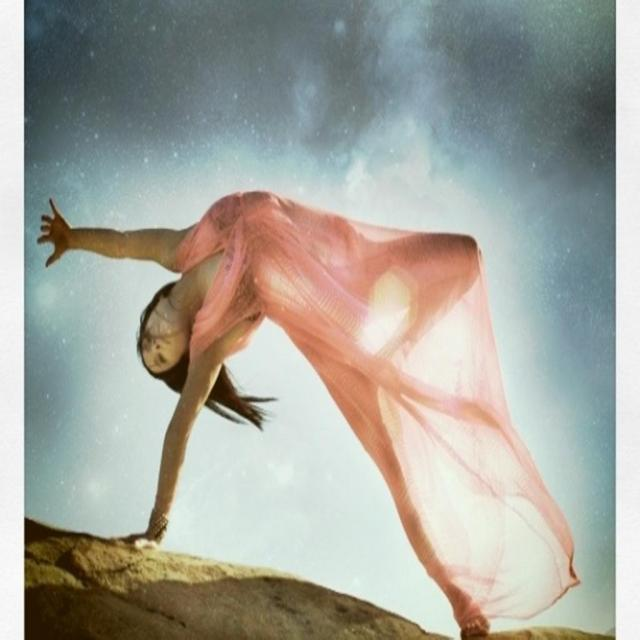nomask: (136, 288, 186, 371)
